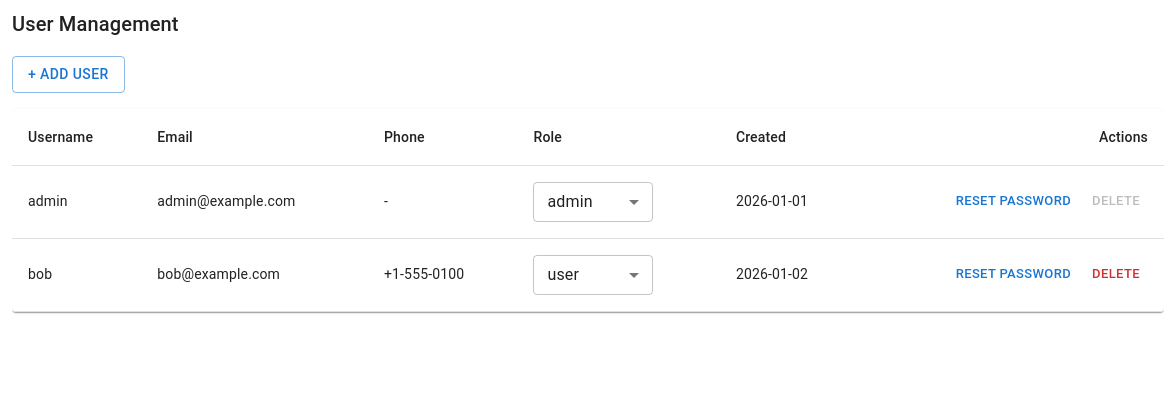
AdminTab › resetting a password › keeps Save disabled while the two password fields disagree
Click the button "Reset Password" in the row of "bob@example.com" at (1013, 274), box x1=951 y1=259 x2=1076 y2=290
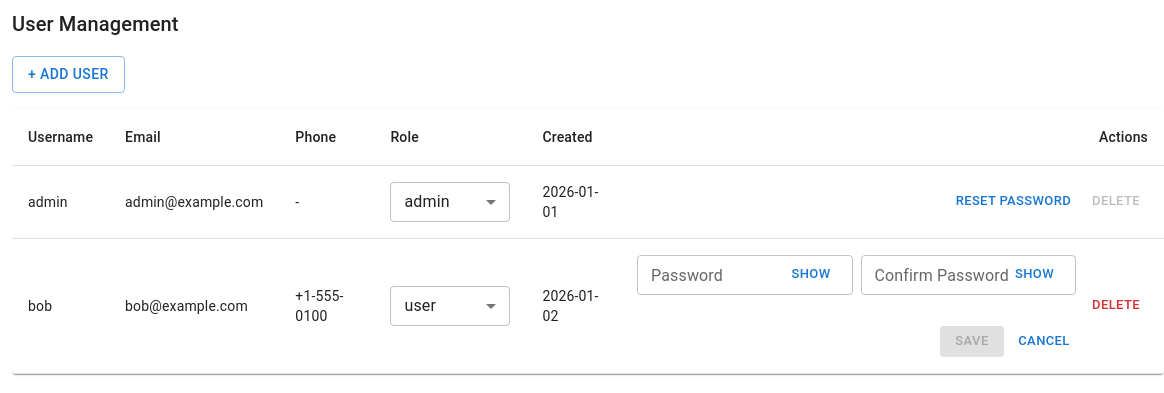
Type "new-password123" into the password field labelled "Password" at (706, 274), box x1=637 y1=254 x2=776 y2=294
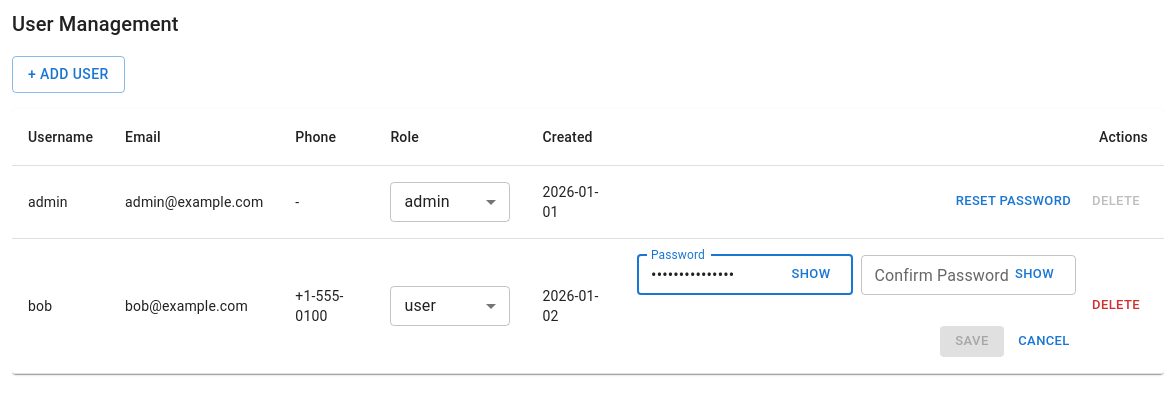
Type "different" into the password field labelled "Confirm Password" at (930, 274), box x1=860 y1=254 x2=999 y2=294
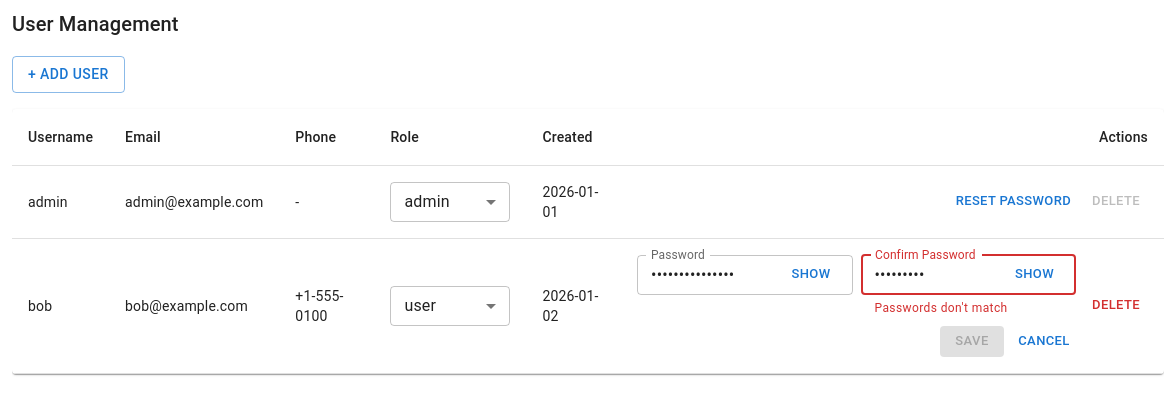
Expected: the button "Save" is disabled, x1=940 y1=326 x2=1004 y2=357
Expected: the text "Passwords don't match" is shown, x1=874 y1=300 x2=1008 y2=314
